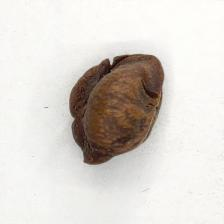NG: (68, 54, 163, 164)
